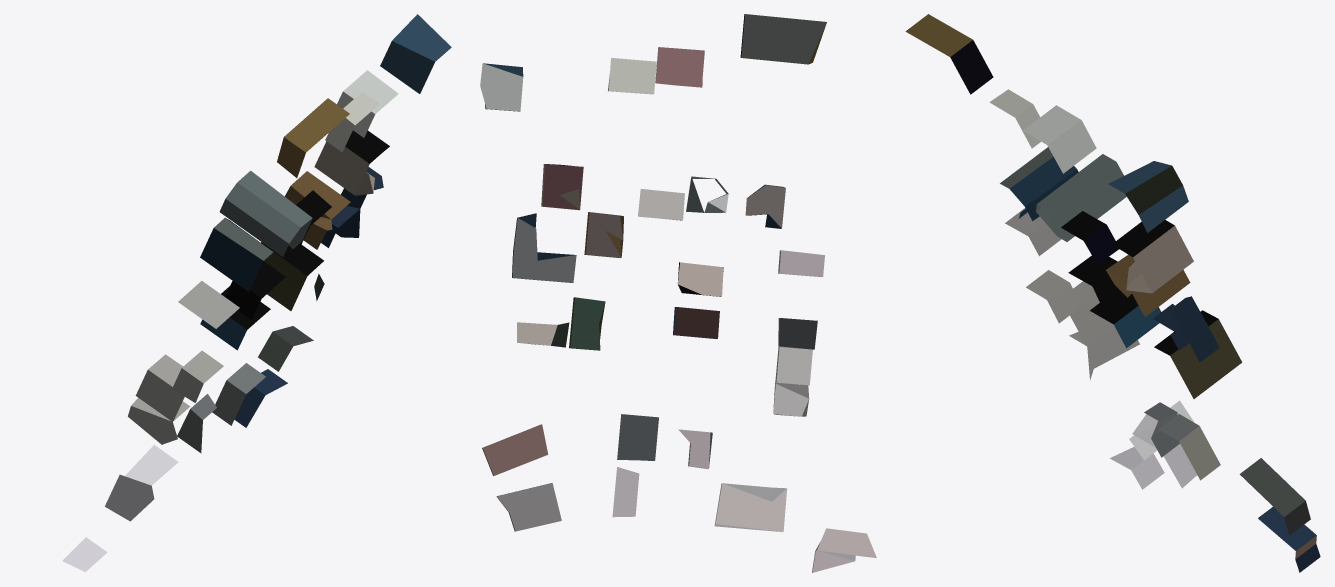
The picture shows the model from 3 angles, left to right: view 1: azimuth 30°, elevation 25°; view 2: azimuth 150°, elevation 25°; view 3: azimuth 270°, elevation 25°; orthographic projection. The views are drawn at different scales.
Bounding box in the file's own units: 126 × 140 × 100.
